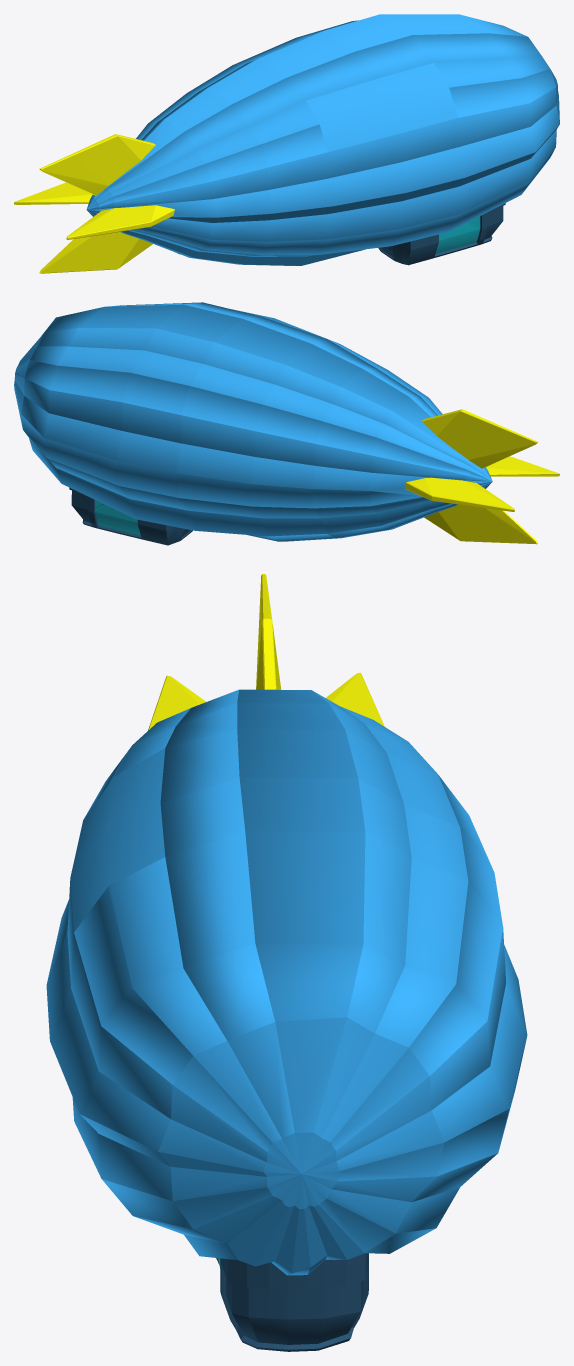
Rendered from Balloon airship.fbx.
3 views of the same model, one above another, from view 1: azimuth 30°, elevation 25°; view 2: azimuth 150°, elevation 25°; view 3: azimuth 270°, elevation 25° (orthographic). The views are drawn at different scales.
Parts seen in each view (by area): view 1: BALOON; view 2: BALOON; view 3: BALOON.
Part boxes in pixels (left/top/right/bottom): BALOON: left=14, top=14, right=559, bottom=273; BALOON: left=14, top=302, right=559, bottom=545; BALOON: left=46, top=574, right=527, bottom=1351.
Bounding box in the file's own units: 640 × 263 × 260.
